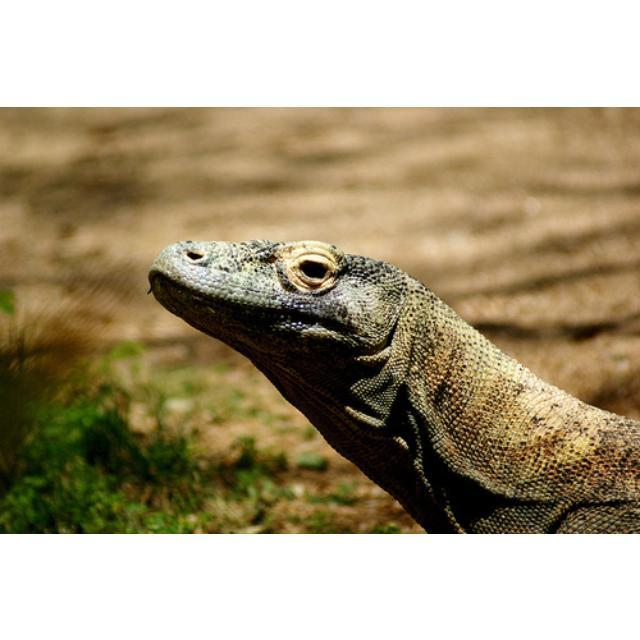KomodoDragon: (145, 236, 637, 531)
